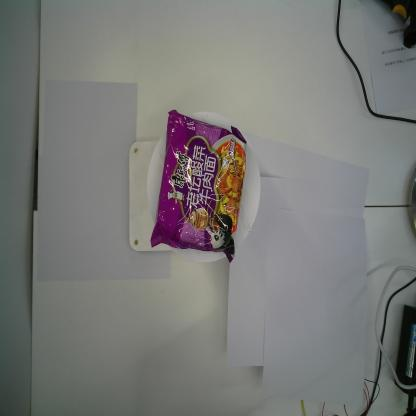Instant Noodles: (150, 108, 247, 264)
